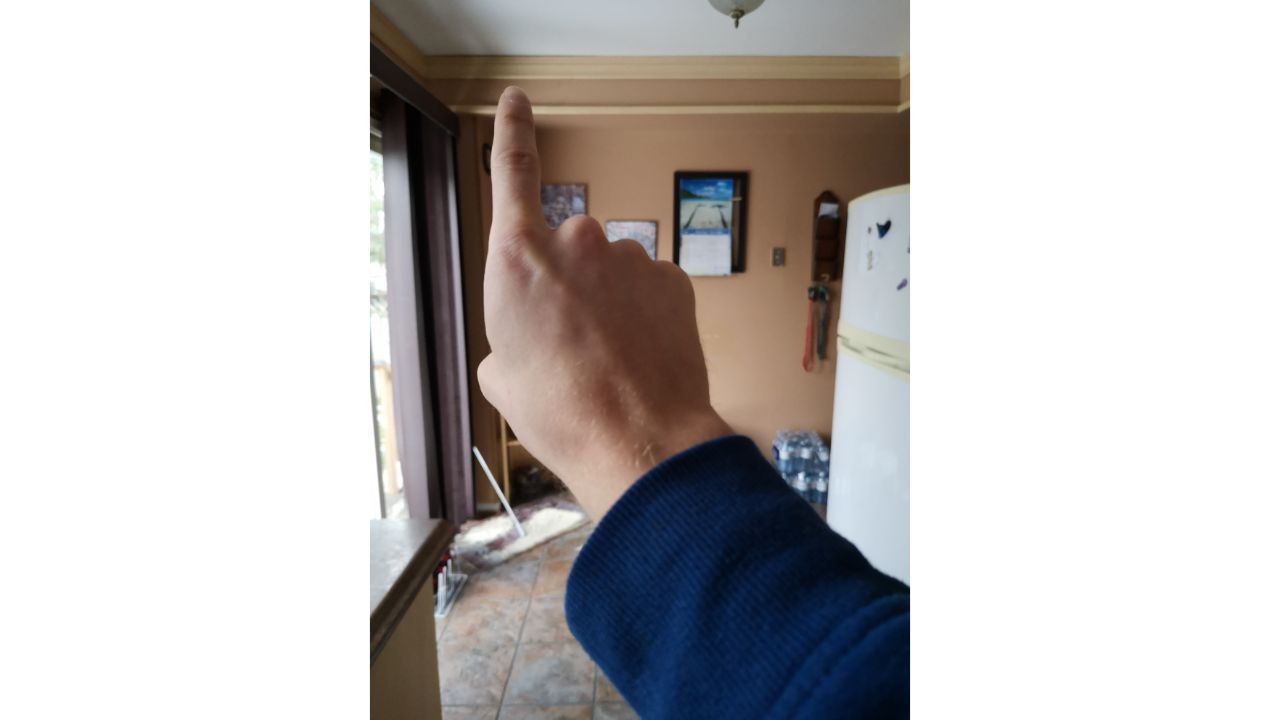finger: (478, 87, 704, 456)
